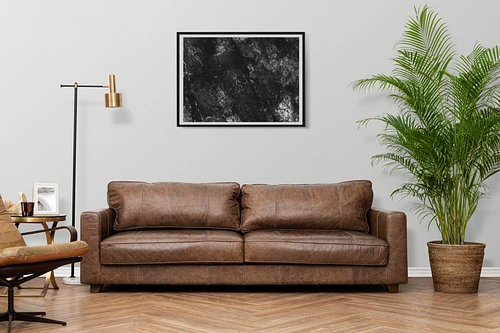chair: (0, 187, 89, 333)
floor lamp: (57, 73, 123, 286)
large plant: (362, 8, 500, 295)
side table: (6, 212, 66, 298)
sofa: (79, 177, 411, 296)
wall art: (174, 29, 307, 128)
